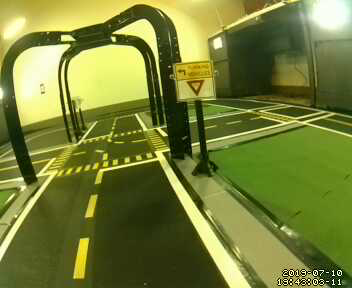Turn Yield: (171, 60, 218, 104)
